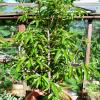Peach leaf: (82, 66, 90, 81), (25, 74, 40, 82), (54, 50, 62, 64), (50, 82, 56, 97), (18, 58, 28, 67), (67, 66, 73, 80), (36, 76, 42, 89), (24, 36, 30, 48), (30, 57, 36, 67), (30, 33, 35, 44), (70, 11, 75, 22), (64, 52, 68, 64), (62, 35, 66, 45), (36, 20, 40, 29)
